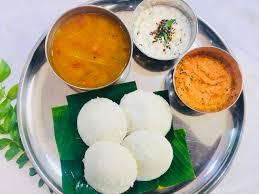coconut chutney: (132, 3, 184, 50)
idli: (78, 99, 170, 182)
sambhar: (52, 16, 122, 82)
